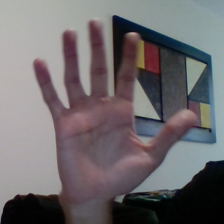left: (23, 13, 201, 200)
